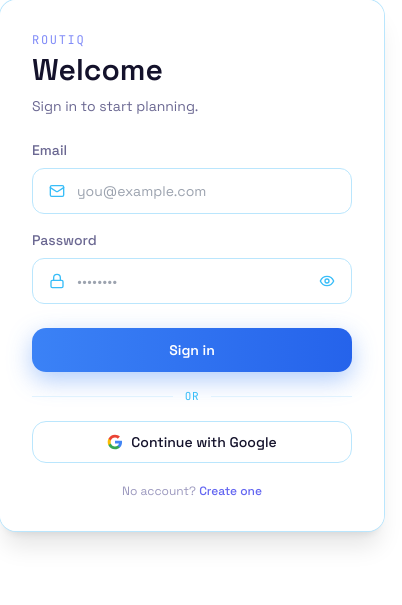
Test: LoginForm › shows validation errors for empty fields
Click the button "Sign in" at (192, 350), box [32,328,352,372]
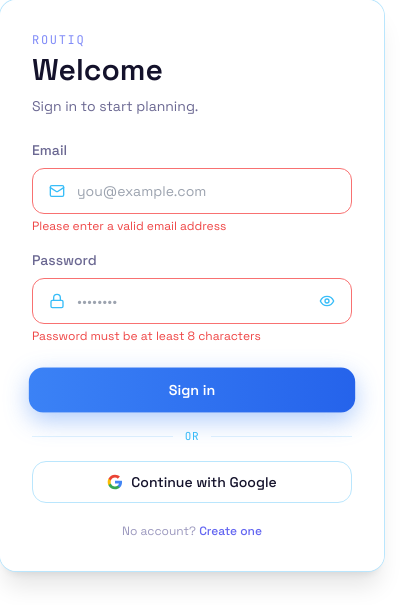
Check: the text "Please enter a valid email address" is shown, box [32,218,226,234]
Check: the text "Password must be at least 8 characters" is shown, box [32,328,261,344]
